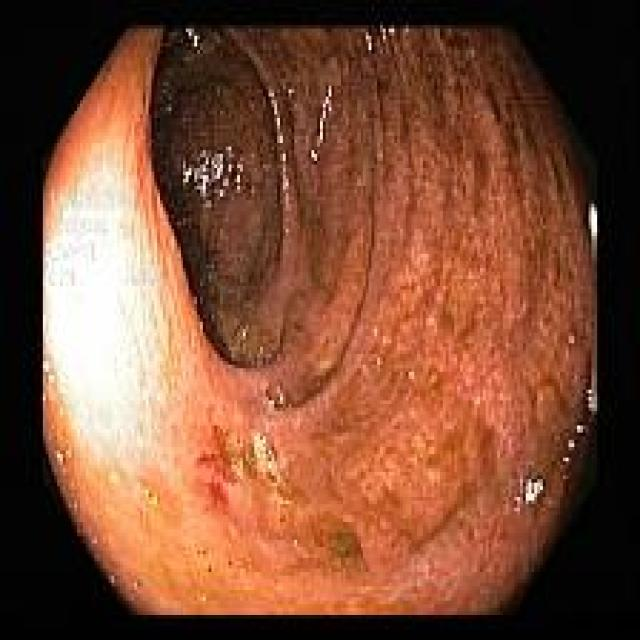ulcerative-colitis: (44, 28, 598, 615)
